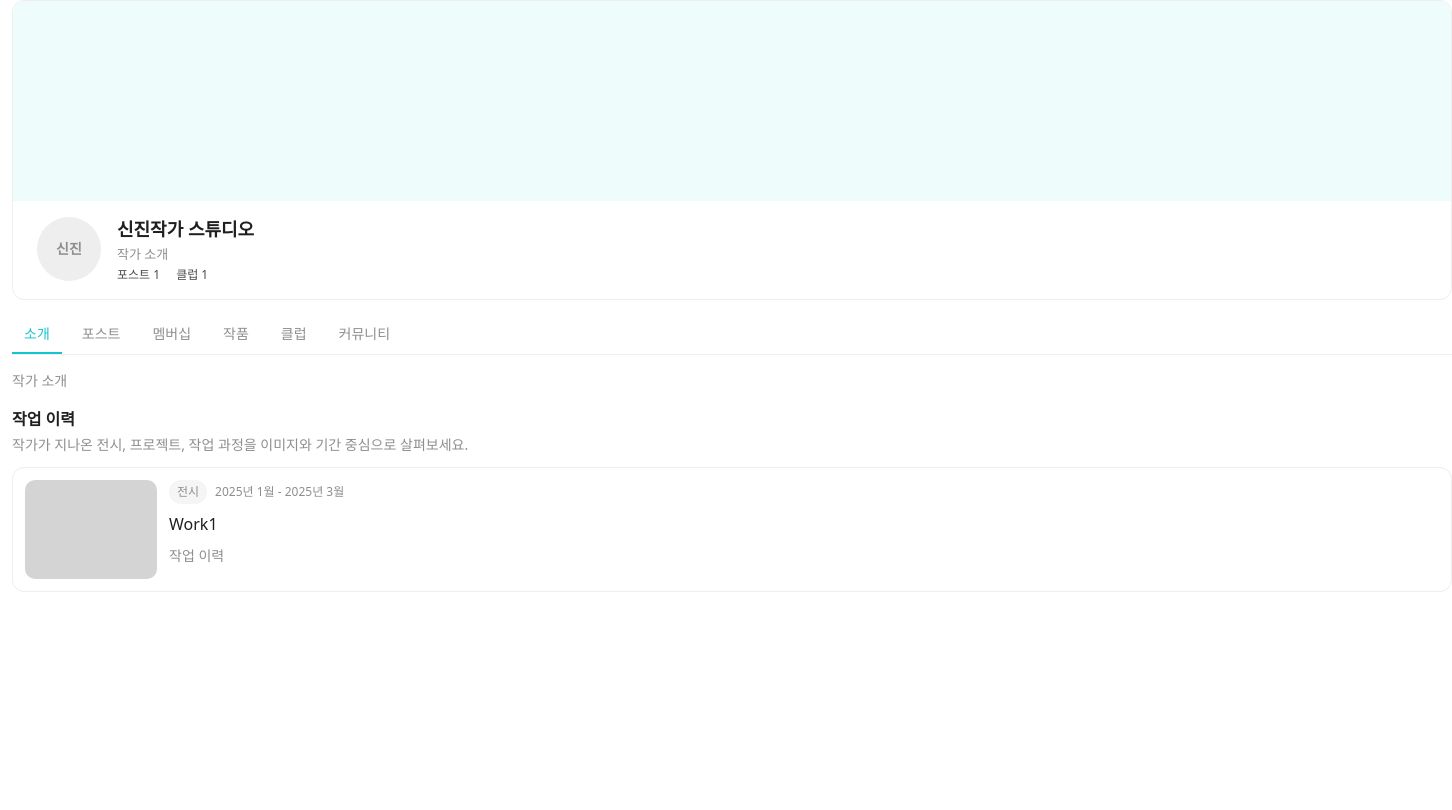
Test: StudioTabs › switches to 포스트 tab and shows posts
The image size is (1452, 810).
Click the tab "포스트".
click(101, 335)  # box x1=70 y1=316 x2=132 y2=354
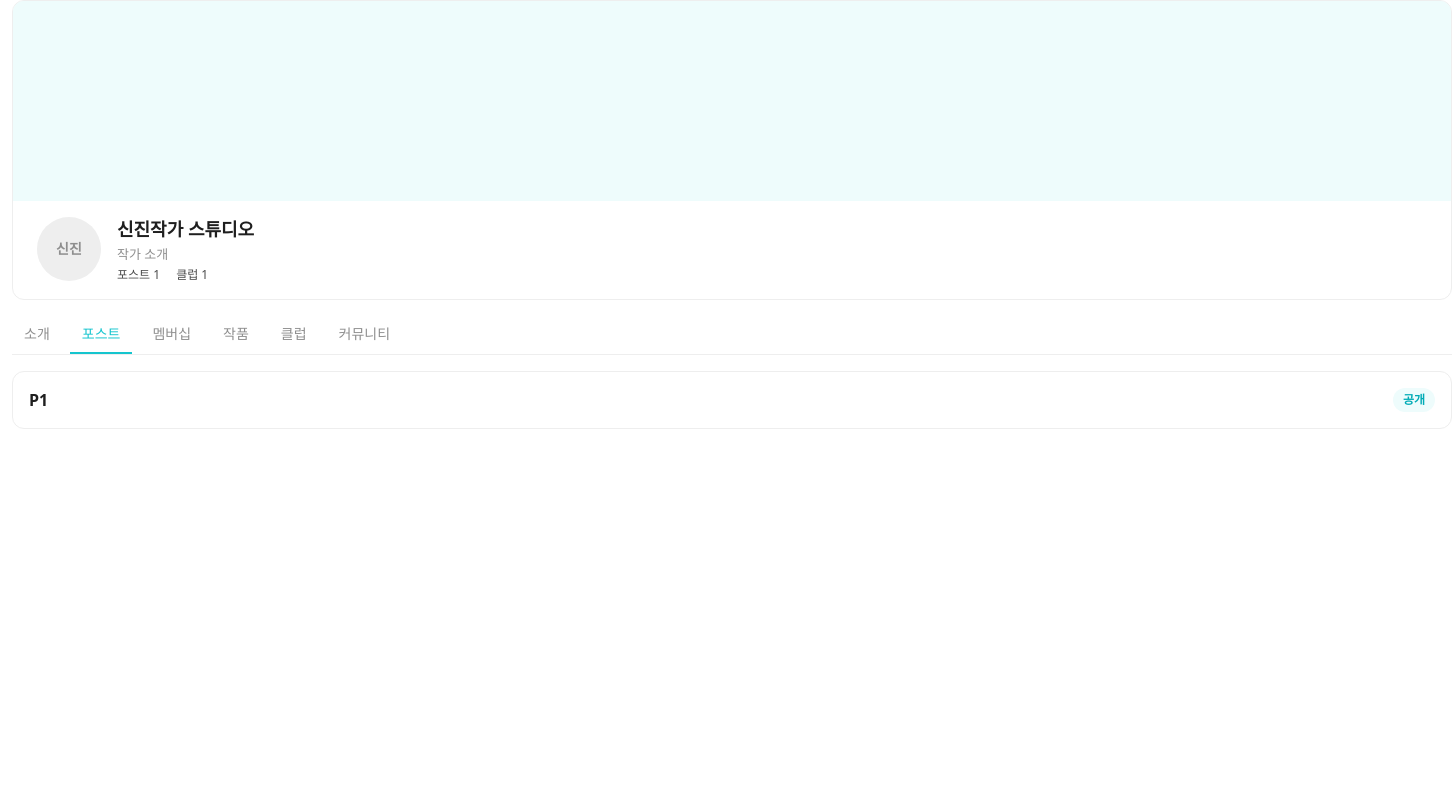
Expected: the text "P1" is shown, x1=29 y1=389 x2=48 y2=411
